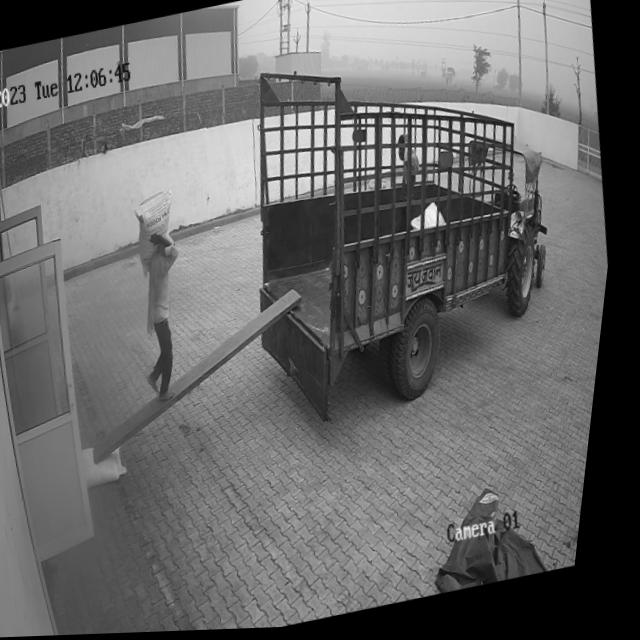sack: (132, 190, 189, 279), (90, 440, 141, 488)
